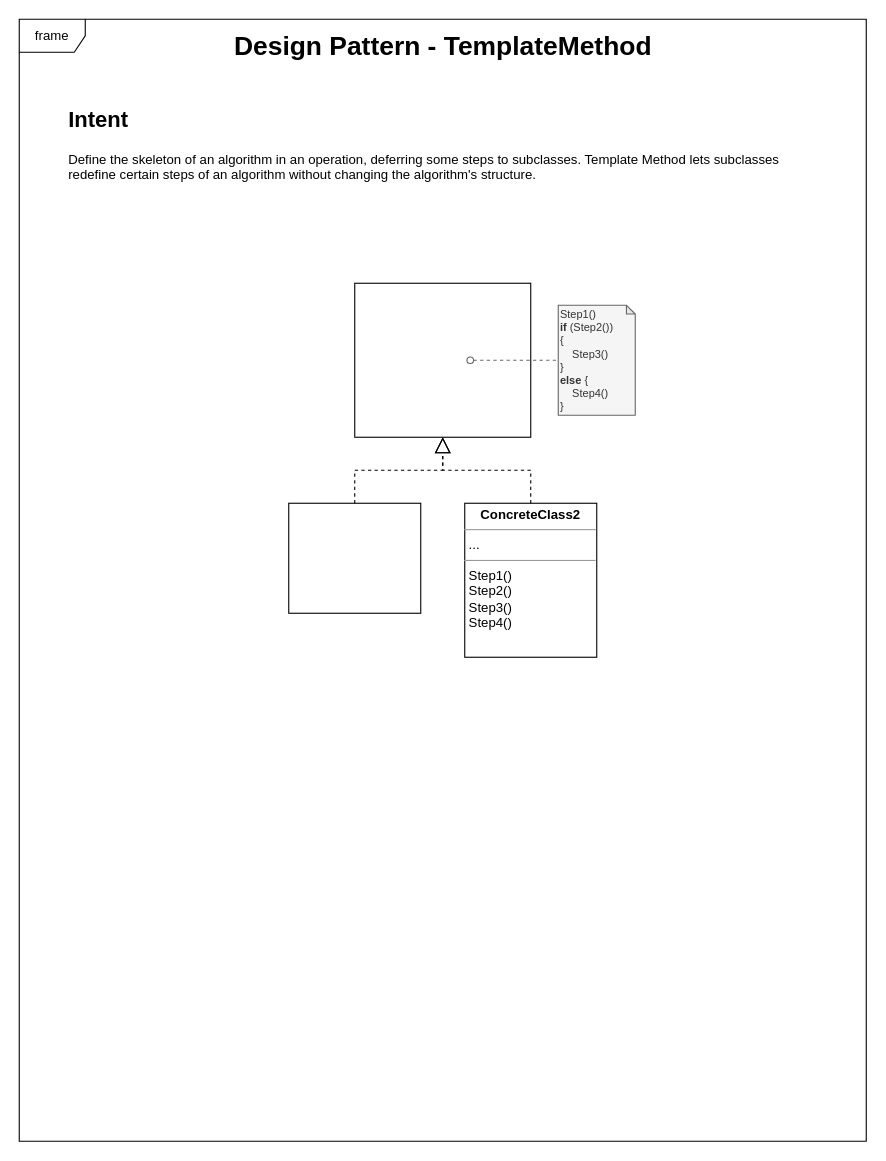
This 886x1161 diagram has some shape labels left out. Here are the shapes that lost their labels. From the top down, the centre of each, then its label:
At point 442,359: "AbstractClass ... TemplateMethod() Step1() Step2() Step3() Step4()".
At point 354,557: "ConcreteClass1 ... Step3() Step4()".
